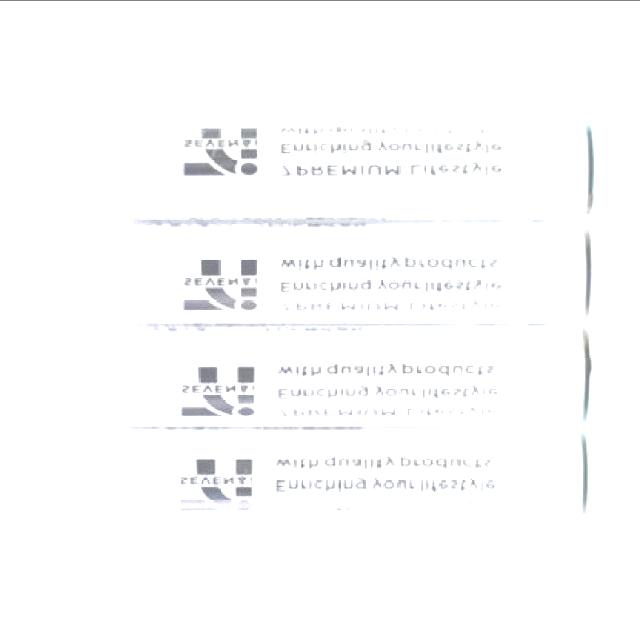AA: (86, 110, 597, 222), (86, 424, 591, 534), (90, 218, 596, 324), (90, 323, 592, 426)
